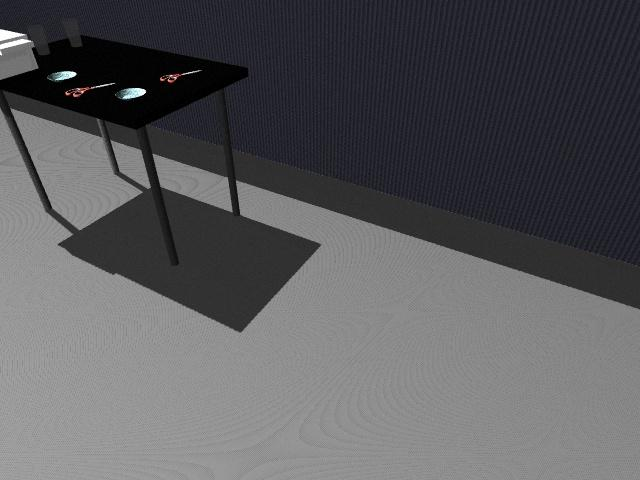cup: (26, 24, 51, 56), (61, 17, 83, 47)
plate: (116, 87, 148, 100), (47, 71, 76, 82)
scissors: (68, 82, 117, 98), (160, 69, 201, 82)
